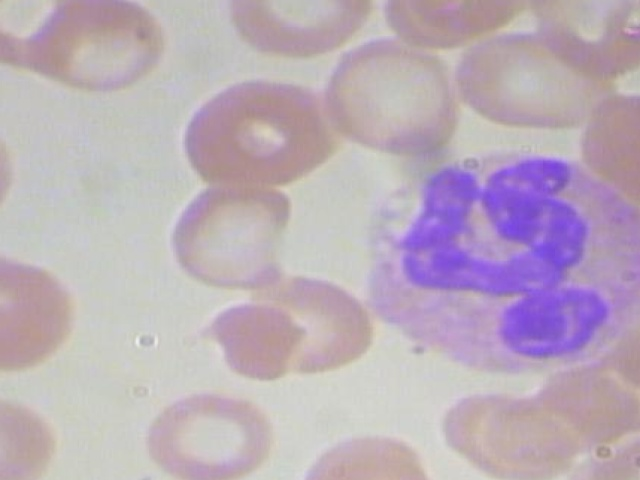RBC: (173, 69, 347, 192), (443, 29, 621, 140), (316, 33, 464, 153), (155, 167, 293, 291), (242, 258, 379, 382), (18, 0, 174, 104), (130, 382, 287, 480), (564, 88, 640, 211), (198, 299, 303, 387), (292, 419, 441, 480), (222, 0, 373, 60), (0, 382, 60, 480), (0, 104, 23, 226)
WBC: (361, 145, 640, 375)
